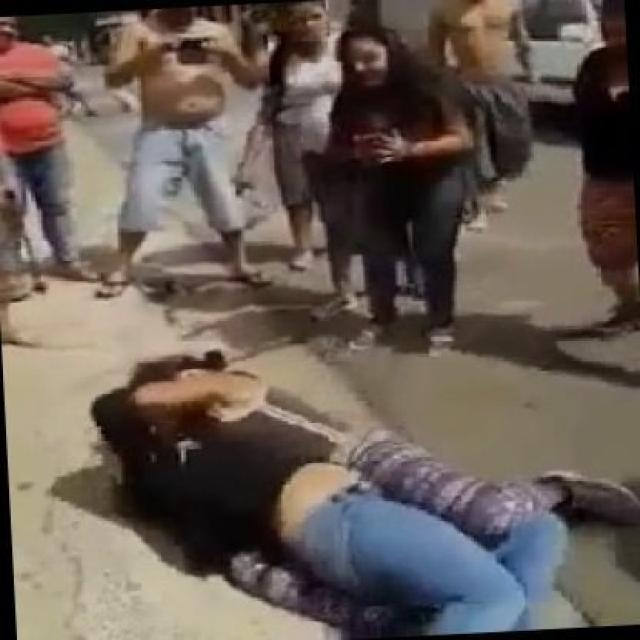fight: (92, 347, 640, 640)
non-fight: (96, 0, 269, 296), (329, 24, 474, 342), (234, 0, 357, 272), (0, 13, 100, 283)
